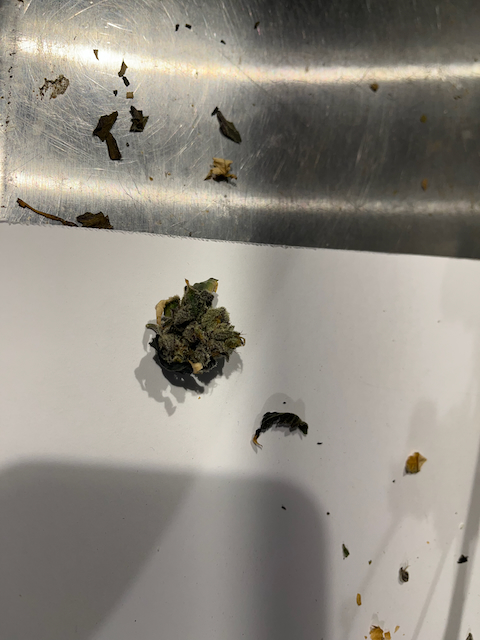Bud: (149, 278, 243, 387)
